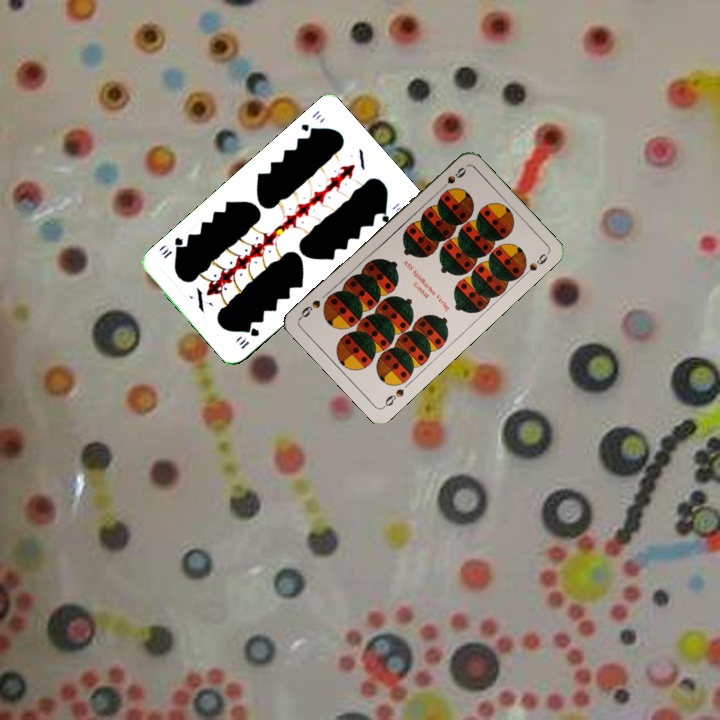G10: (297, 106, 325, 137), (235, 323, 262, 352)
S9: (435, 163, 469, 194), (379, 384, 407, 411)
